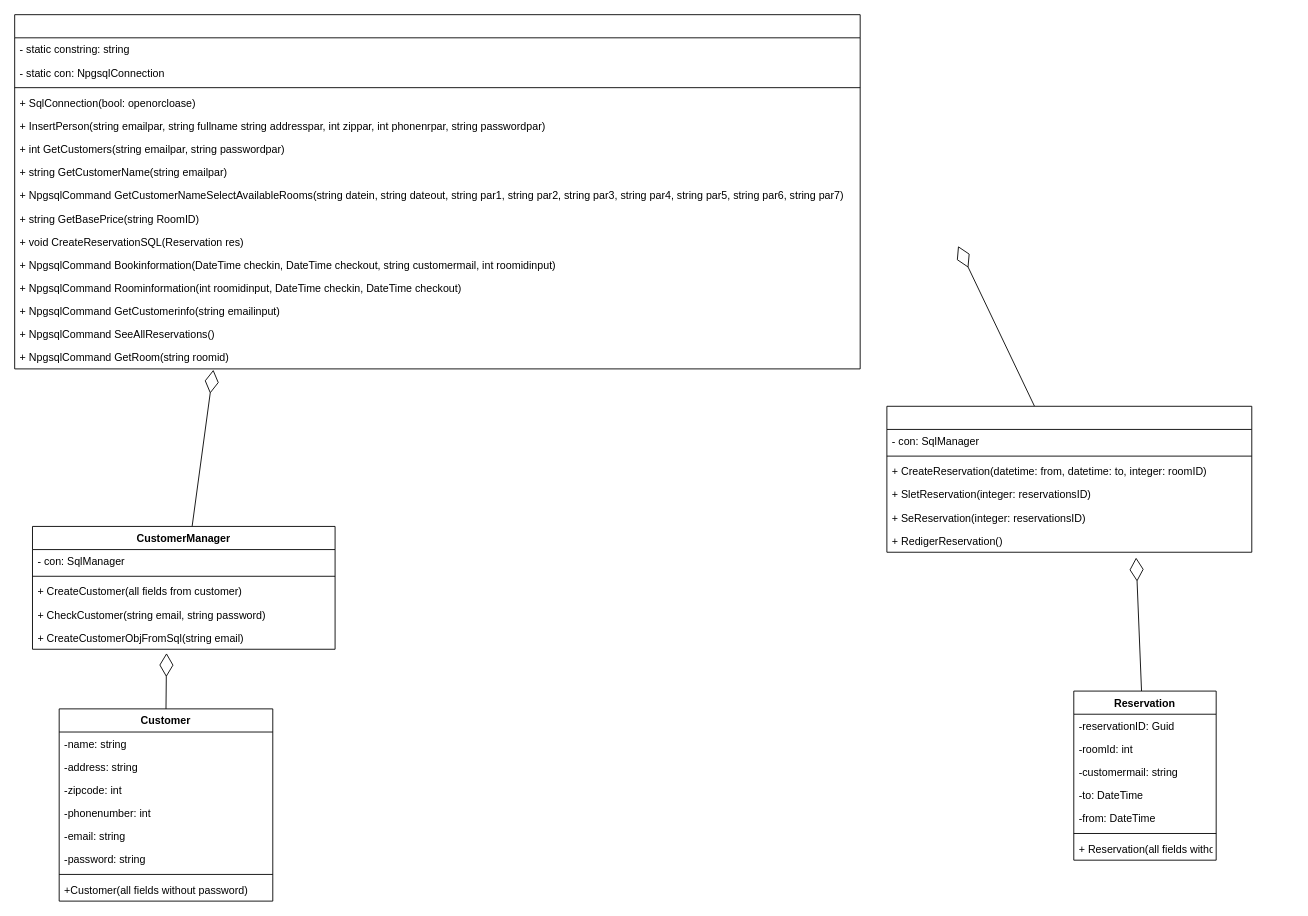
The diagram is 1308 pixels wide and 916 high, and some of its shapes have lost their labels. The box of each missing label's shape, as (x1, y1, x2, y2) in pixels:
ReservationManager: (886, 405, 1252, 552)
SqlManager: (14, 14, 860, 369)
